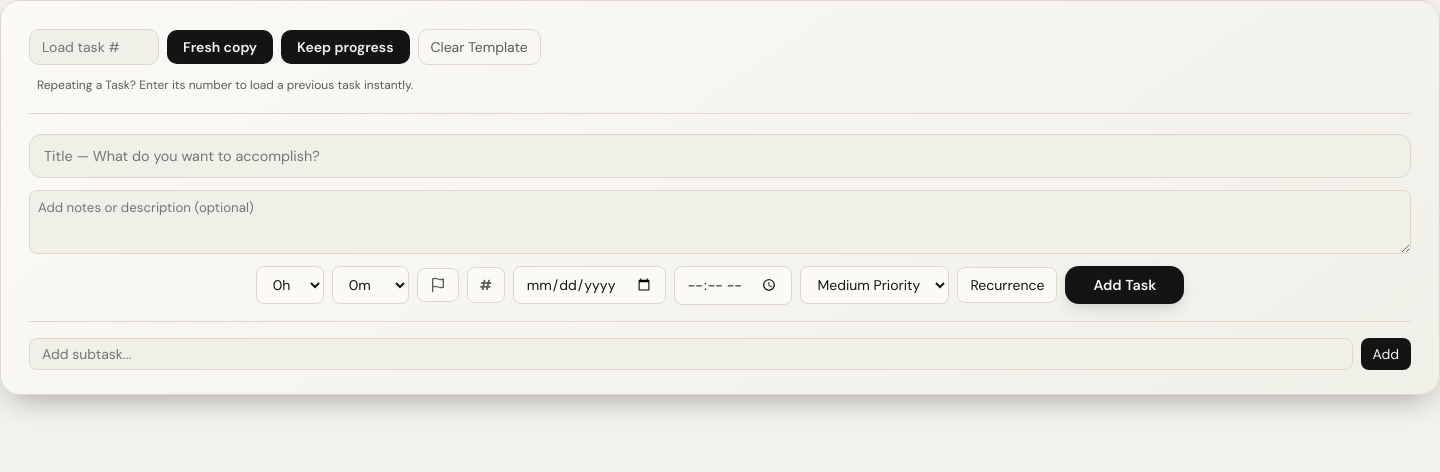
Scenario: Composer type-ahead suggestions › Keep progress carries the subtask completion over
The width and height of the screenshot is (1440, 472).
In the dropdown named "Task title": (720, 156) [29,134,1411,178], type "Weekly"
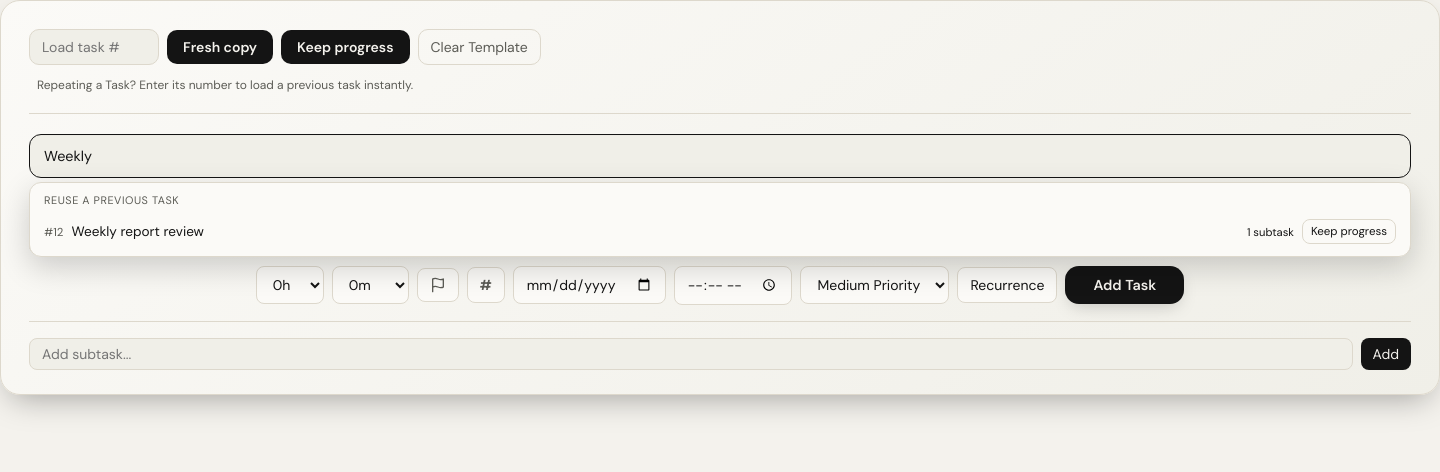
Click the button "Keep progress" in the row of "12": (1349, 232) [1302,219,1396,244]
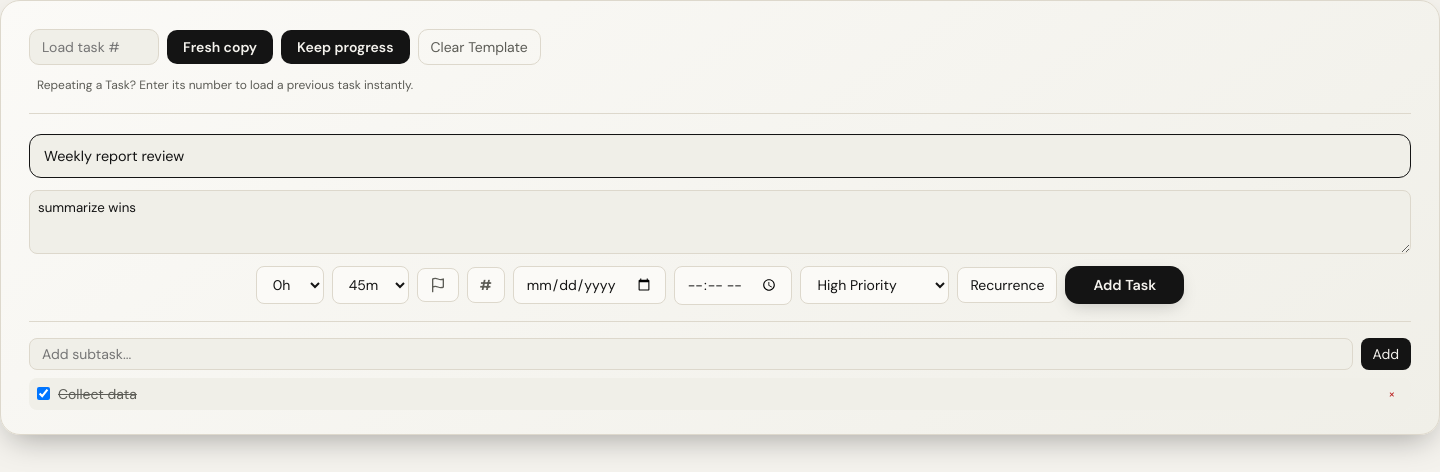
Result: the dropdown named "Task title" holds "Weekly report review" at [29,134,1411,178]
Result: the checkbox named "Toggle subtask Collect data" is checked at [37,387,50,400]
